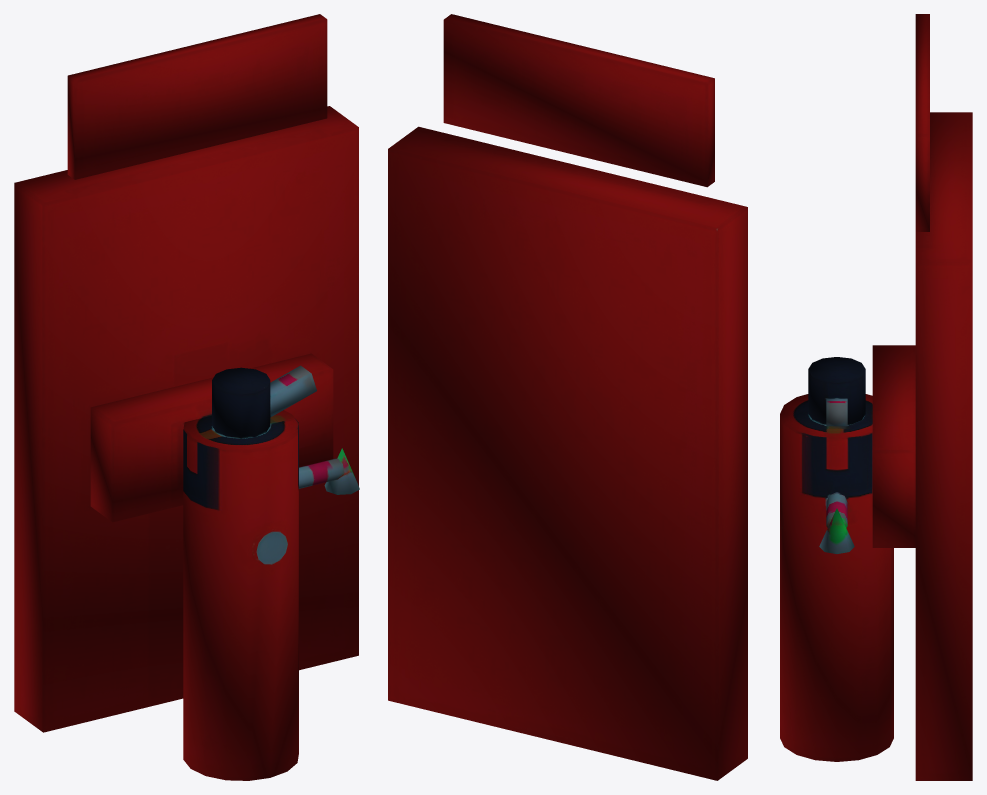
File: yard-extinguisher-body-tripo-original.glb
3 views of the same model, side by side, from view 1: azimuth 30°, elevation 25°; view 2: azimuth 150°, elevation 25°; view 3: azimuth 270°, elevation 25° (orthographic). The views are drawn at different scales.
Visible parts, largest first — view 1: Authored_surface_035; view 2: Authored_surface_035; view 3: Authored_surface_035.
Part boxes in pixels (x1,y1,x2,y2): Authored_surface_035: (14, 14, 359, 780); Authored_surface_035: (388, 14, 747, 780); Authored_surface_035: (780, 14, 972, 780).
Size of the model in its own units: 0.4878 by 1 by 0.2683.
1 material, 1 textured.
